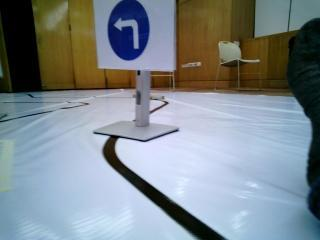left: (94, 0, 167, 66)
